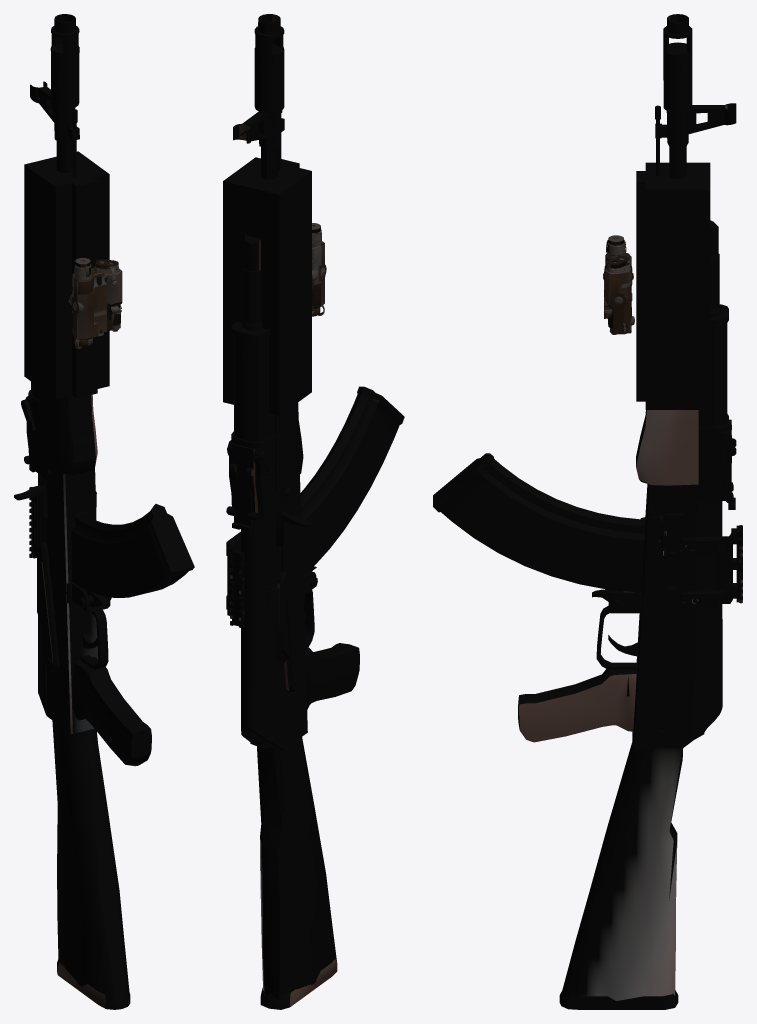
The model's file is AK74__Handguard_AK_Quad__Laser_Rifle__Mount_AK_SideRail.fbx.
3 views of the same model, side by side, from view 1: azimuth 30°, elevation 25°; view 2: azimuth 150°, elevation 25°; view 3: azimuth 270°, elevation 25° (orthographic). The views are drawn at different scales.
Visible parts, largest first — view 1: asset_AK74.001; view 2: asset_AK74.001; view 3: asset_AK74.001.
Part boxes in pixels (box(x1,y1,x2,y2)): asset_AK74.001: box(14, 14, 194, 1009); asset_AK74.001: box(223, 14, 404, 1009); asset_AK74.001: box(433, 14, 742, 1009).
Bounding box in the file's own units: 0.046 × 0.564 × 0.1608.
